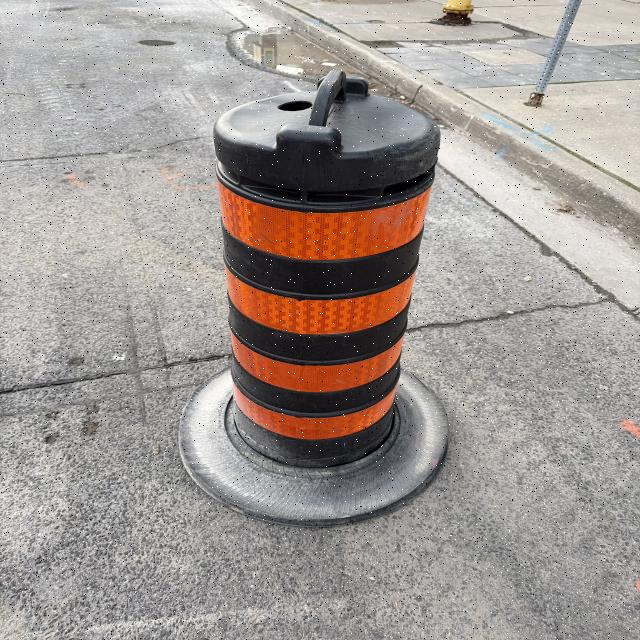Teraffic Barrel: (180, 71, 447, 524)
